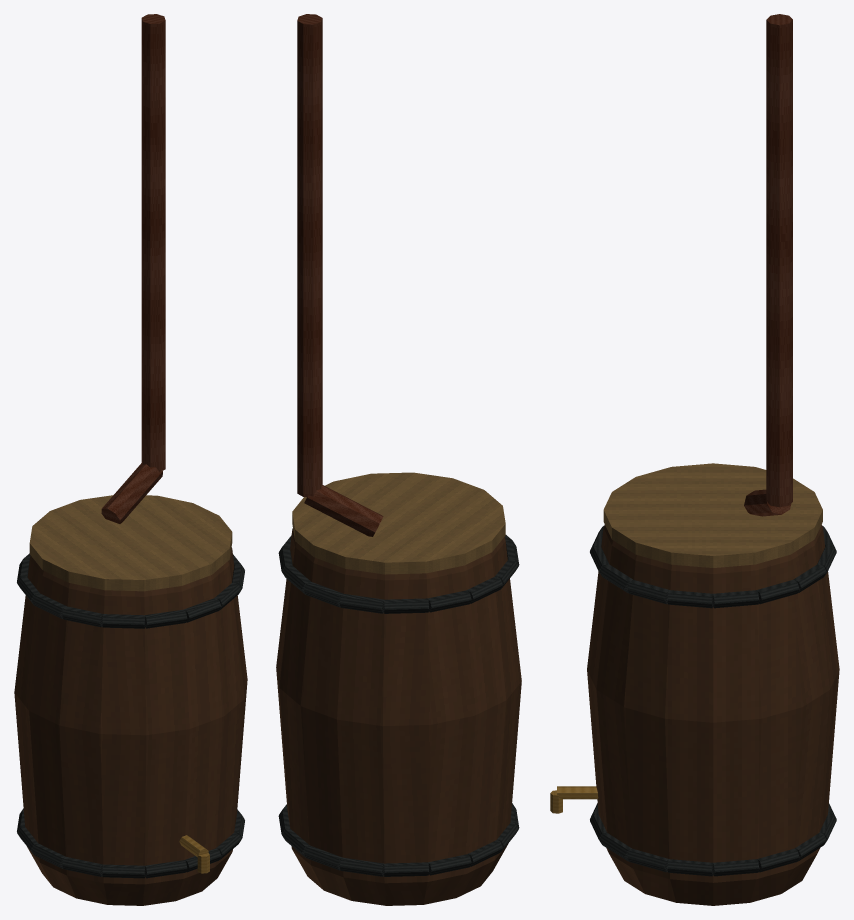
File: level_camp_rainbarrel.glb
3 views of the same model, side by side, from view 1: azimuth 30°, elevation 25°; view 2: azimuth 150°, elevation 25°; view 3: azimuth 270°, elevation 25° (orthographic). The views are drawn at different scales.
Parts seen in each view (by area): view 1: level_camp_rainbarrel; view 2: level_camp_rainbarrel; view 3: level_camp_rainbarrel.
Part boxes in pixels (left/top/right/bottom): level_camp_rainbarrel: left=14, top=14, right=247, bottom=905; level_camp_rainbarrel: left=276, top=14, right=521, bottom=905; level_camp_rainbarrel: left=550, top=14, right=839, bottom=905.
Bounding box in the file's own units: 0.76 × 2.9 × 0.87.
Materials: 5 (5 with a texture image).
